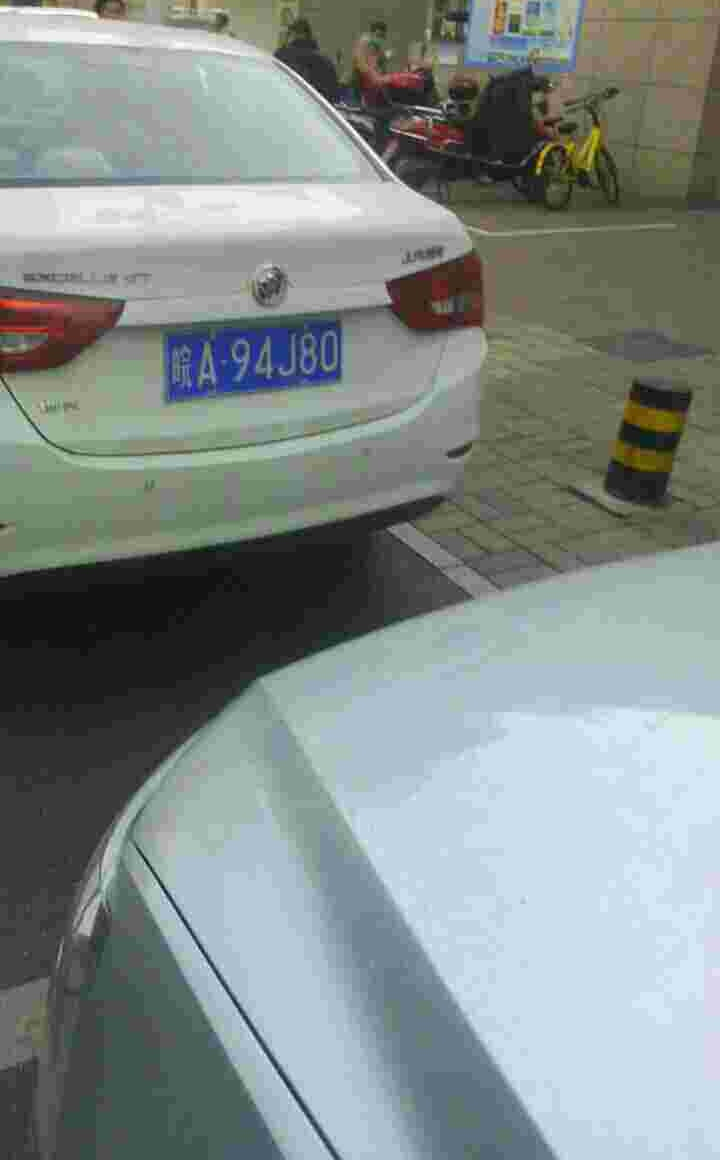license_plate: (166, 318, 349, 385)
